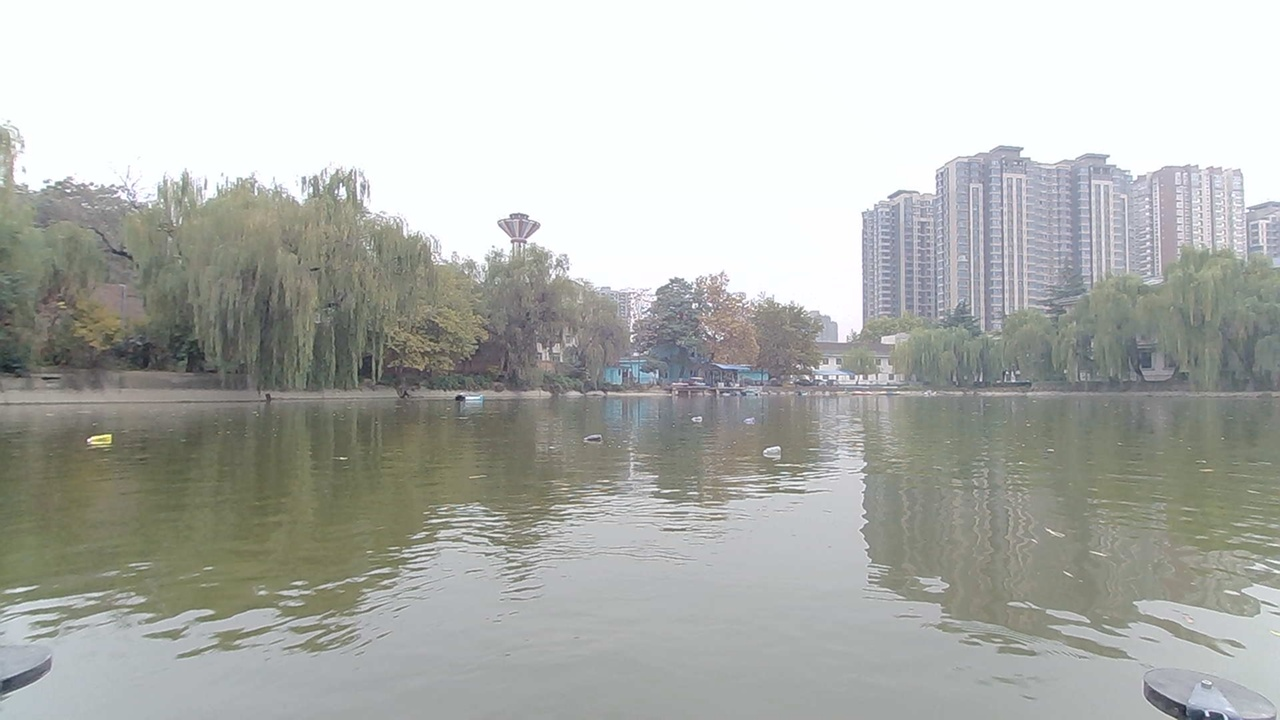bottle: (80, 424, 128, 456), (583, 427, 613, 449), (760, 440, 790, 461), (730, 413, 763, 430), (689, 405, 711, 424)
